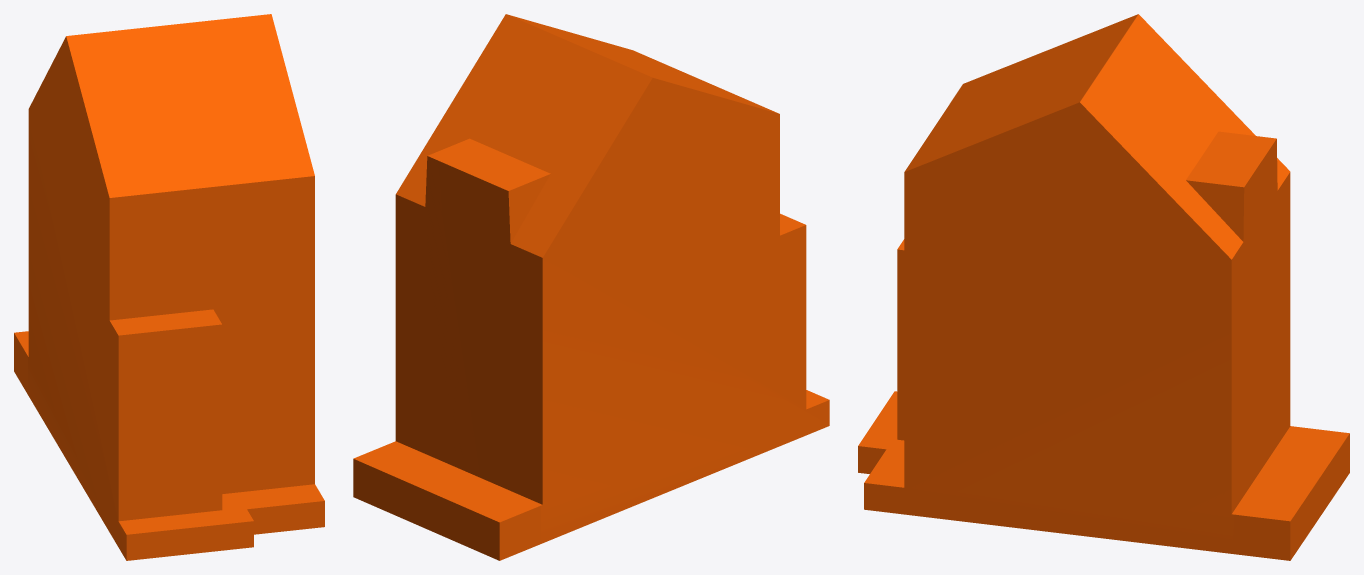
File: DEHB01ALn0001MyM.dae
The picture shows the model from 3 angles, left to right: view 1: azimuth 30°, elevation 25°; view 2: azimuth 150°, elevation 25°; view 3: azimuth 270°, elevation 25°; orthographic projection. The views are drawn at different scales.
Size of the model in its own units: 11.45 by 16.64 by 16.18.
